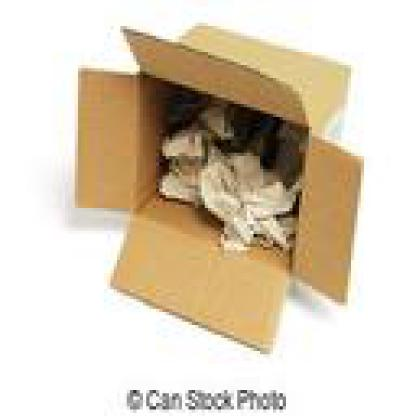CARDBOARD: (75, 20, 361, 354)
PAPER: (195, 149, 289, 247), (152, 120, 218, 198), (178, 95, 244, 136), (266, 124, 309, 176), (224, 120, 273, 153)
